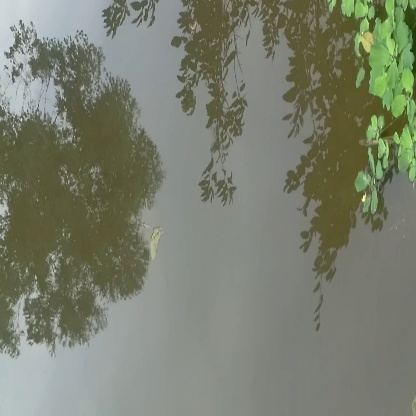grass: (346, 7, 416, 171)
